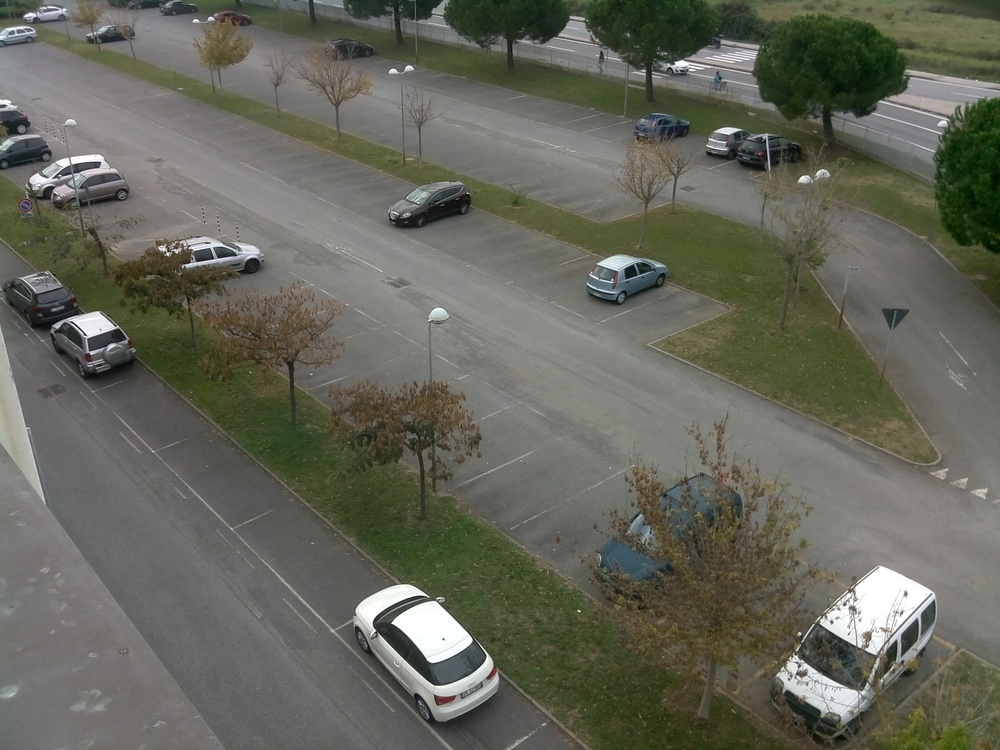Car: (771, 566, 936, 740), (596, 465, 743, 605), (352, 584, 499, 723), (49, 311, 136, 378), (3, 271, 80, 327), (585, 254, 668, 305), (155, 236, 265, 274), (387, 180, 472, 227), (25, 154, 111, 198), (51, 167, 130, 209), (737, 134, 802, 170), (0, 135, 52, 169), (633, 114, 690, 143), (704, 126, 752, 159), (324, 38, 373, 58), (86, 25, 135, 44), (0, 26, 37, 48), (23, 6, 68, 24), (0, 109, 30, 134), (160, 0, 199, 16), (653, 60, 690, 75), (214, 11, 251, 25), (128, 0, 172, 9), (107, 0, 135, 8), (0, 99, 17, 111)
